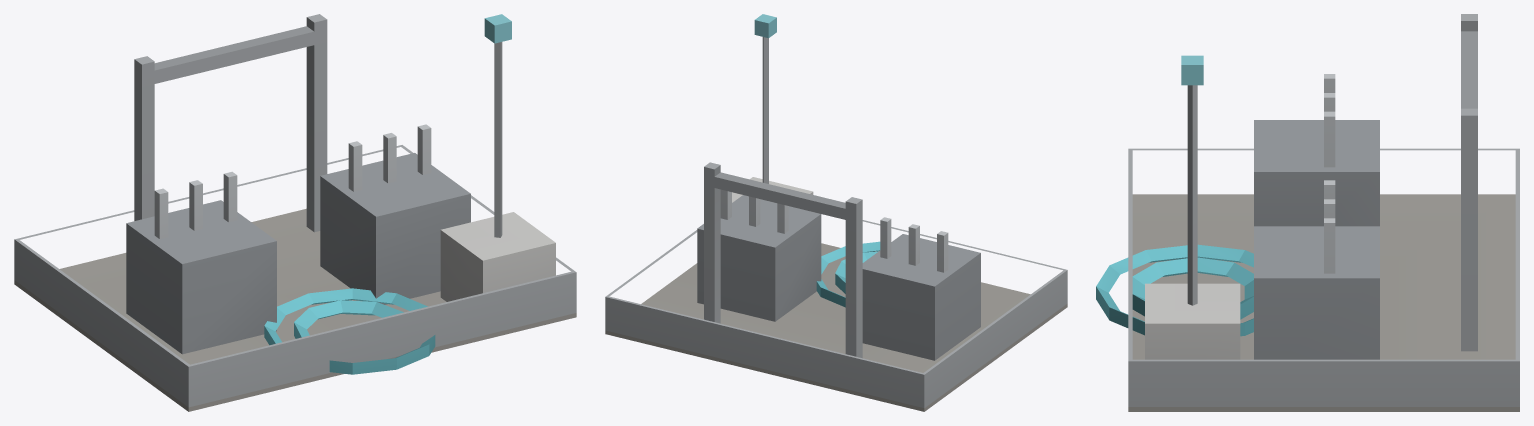
Rendered from substation_smart.glb.
3 renders of one model, left to right at view 1: azimuth 30°, elevation 25°; view 2: azimuth 150°, elevation 25°; view 3: azimuth 270°, elevation 25°, orthographic. The views are drawn at different scales.
Parts seen in each view (by area): view 1: substation_smart; view 2: substation_smart; view 3: substation_smart.
Part boxes in pixels (bbox=[...]): substation_smart: bbox=[14, 14, 576, 411]; substation_smart: bbox=[605, 14, 1067, 411]; substation_smart: bbox=[1096, 14, 1519, 411].
Bounding box in the file's own units: 18 × 12.8 × 15.15.
